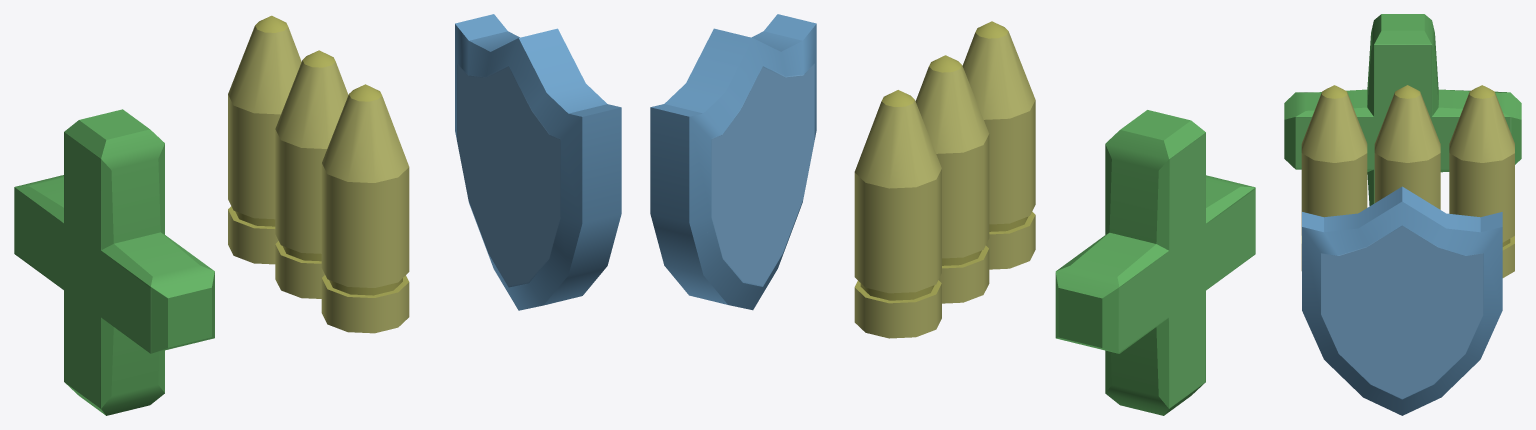
File: pickups.fbx
The picture shows the model from 3 angles, left to right: view 1: azimuth 30°, elevation 25°; view 2: azimuth 150°, elevation 25°; view 3: azimuth 270°, elevation 25°; orthographic projection. The views are drawn at different scales.
Visible parts, largest first — view 1: pCube14, pCube1, pCylinder2, pCylinder3, pCylinder1; view 2: pCube14, pCube1, pCylinder3, pCylinder1, pCylinder2; view 3: pCube1, pCube14, pCylinder3, pCylinder2, pCylinder1.
Boxes of the visible parts, x1,y1,x2,y2 form: pCube14: (14, 109, 214, 415); pCube1: (455, 14, 621, 310); pCylinder2: (321, 84, 409, 333); pCylinder3: (228, 15, 301, 264); pCylinder1: (275, 50, 348, 298); pCube14: (1055, 110, 1255, 415); pCube1: (650, 14, 816, 310); pCylinder3: (854, 90, 941, 338); pCylinder1: (915, 55, 989, 303); pCylinder2: (962, 21, 1035, 269); pCube1: (1302, 186, 1502, 415); pCube14: (1284, 14, 1521, 205); pCylinder3: (1449, 85, 1514, 277); pCylinder2: (1301, 85, 1367, 270); pCylinder1: (1374, 85, 1440, 209).
Size of the model in its own units: 87.16 by 52.56 by 46.95.
Materials: 3 (3 with a texture image).
